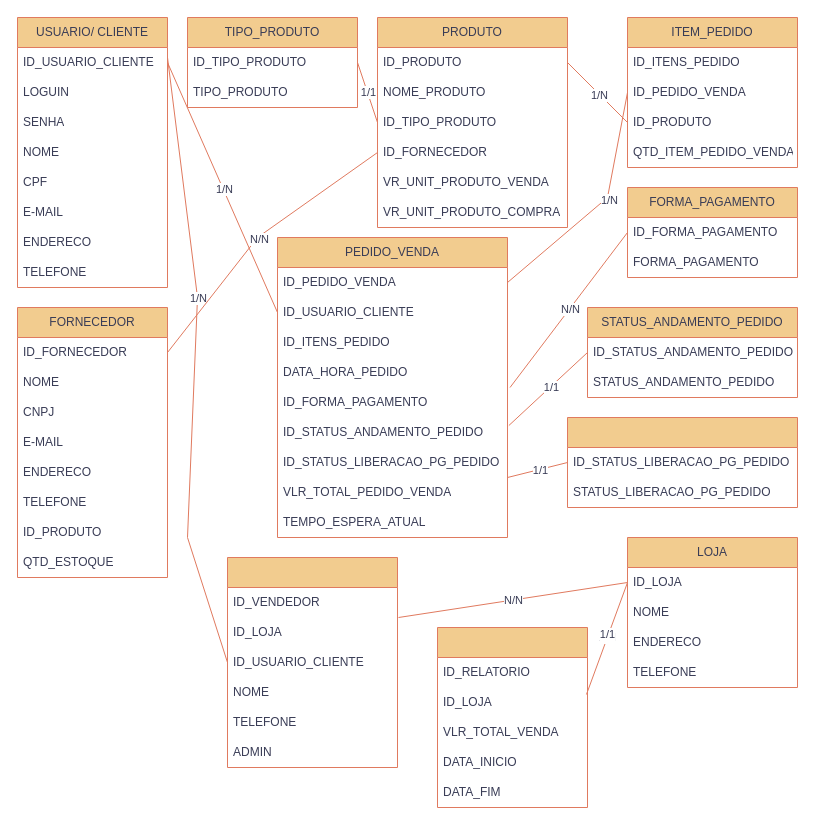
Image size: 815x825. Some labels were removed from this diagram. The shapes that lost their labels are listed below. From the top down, each one's box as (x1, y1, x2, y2) in pixels, then its label:
(566, 416, 798, 508): STAUS_LIBERACAO_PG_PEDIDO
(226, 556, 398, 768): VENDEDORES
(436, 626, 588, 808): RELATORIO_VENDAS
